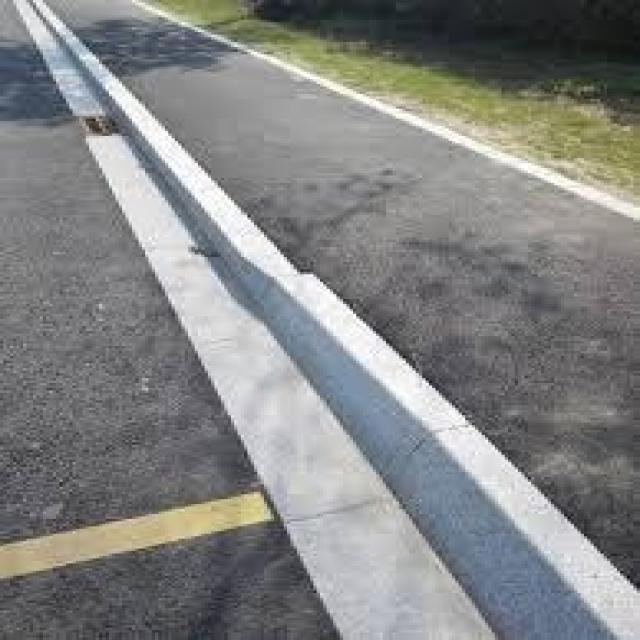bump: (276, 265, 548, 626)
